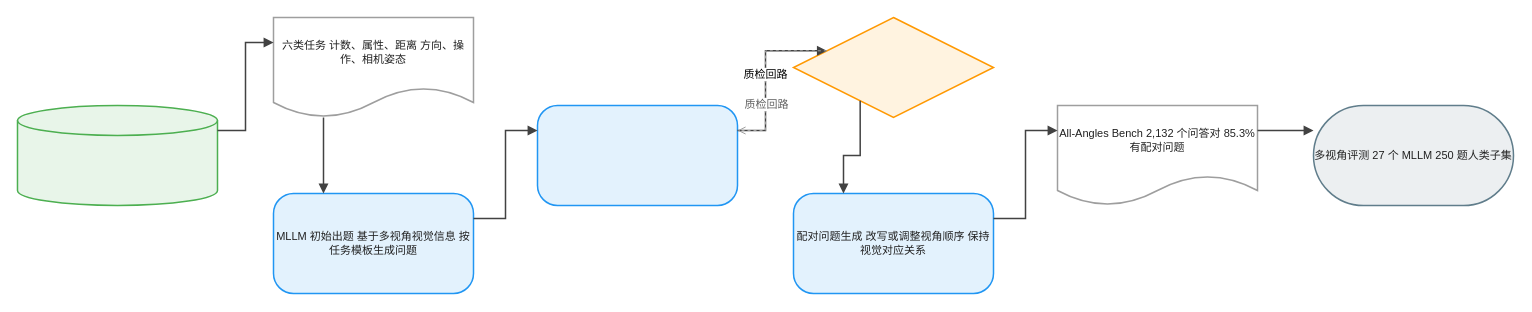
Image size: 1532x312. Some labels were removed from this diagram. Here are the shapes that lost their labels. From the top down, the box of each, then its label:
(792, 16, 994, 118): 答案与选项审查 修正错误选项 每题一个正确答案
(16, 104, 218, 206): 多视角数据来源 Ego-Exo4D 与 EgoHumans 90 个真实世界场景
(536, 104, 738, 206): 人工标注 8 名标注员检查图像 删除无效或歧义项
